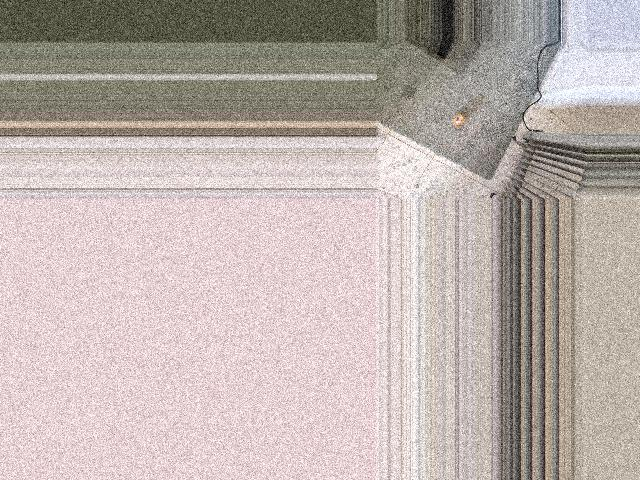onion: (451, 113, 467, 126)
